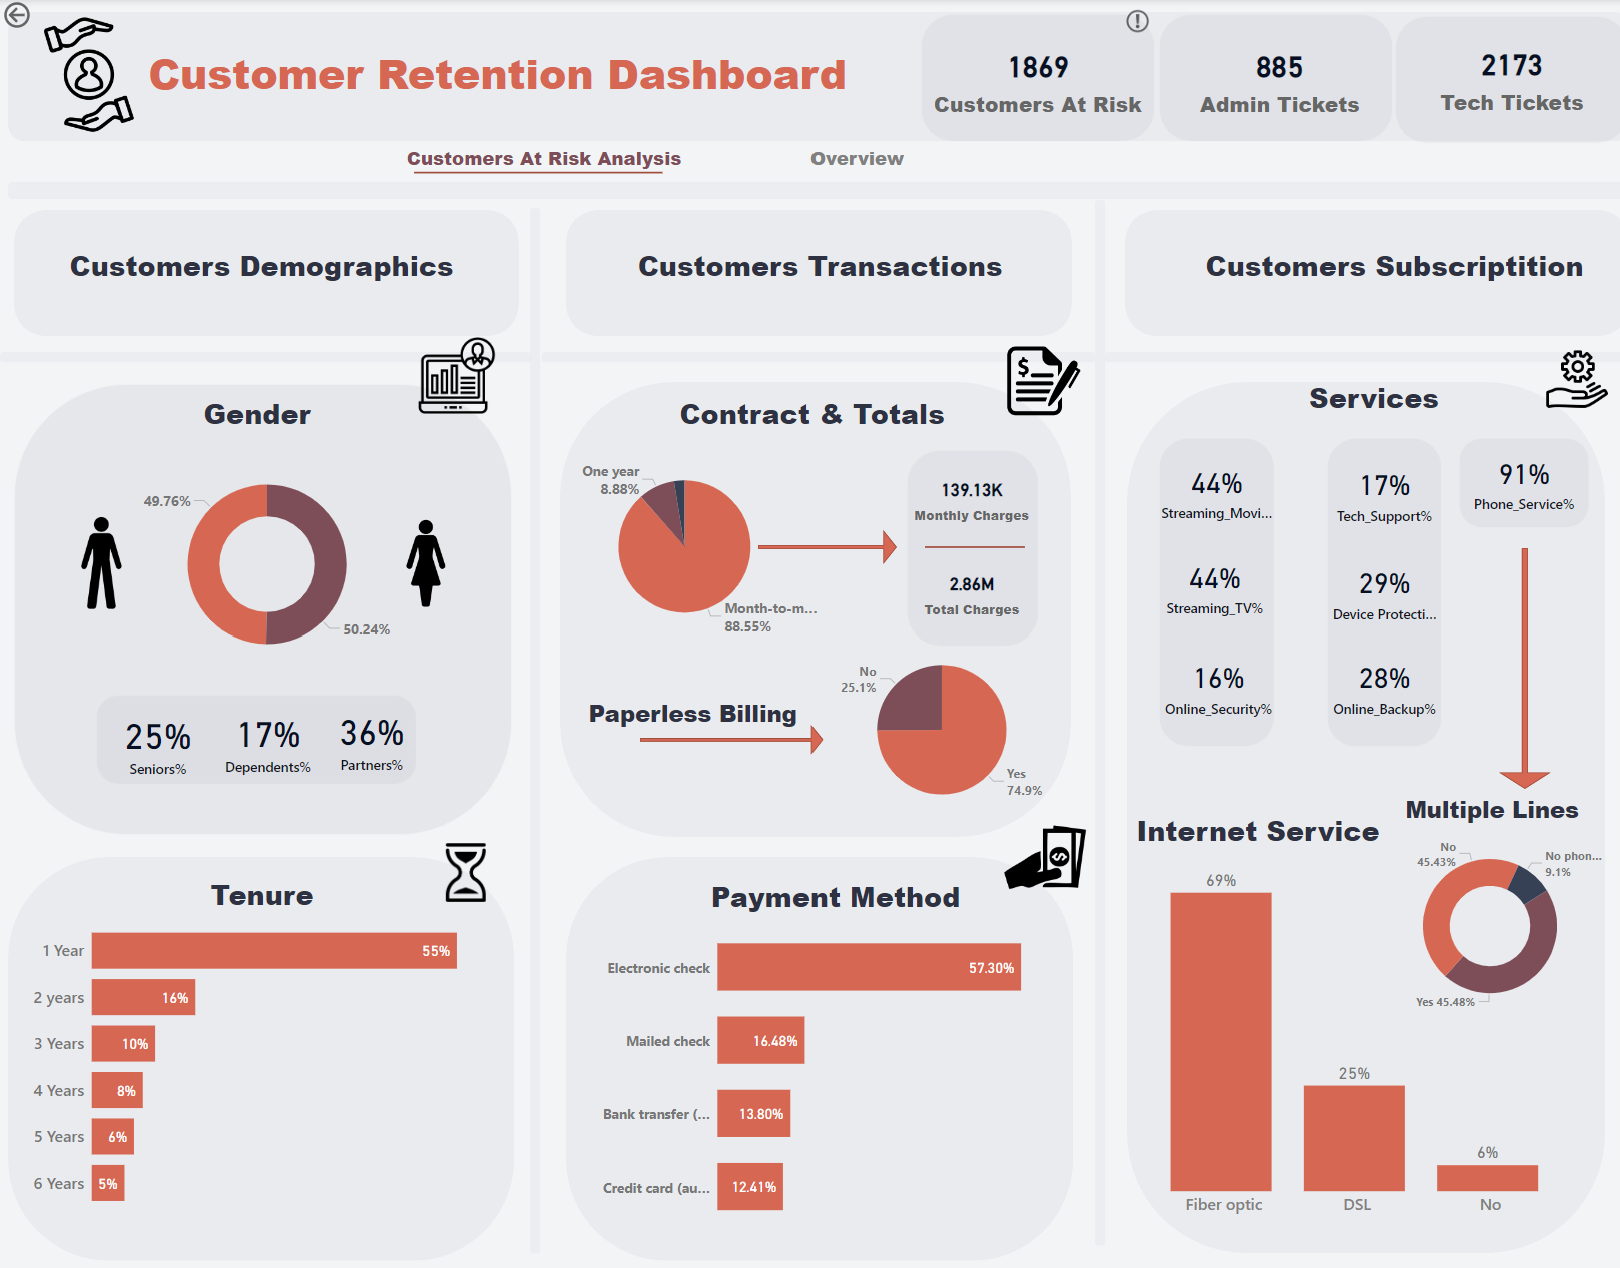

The dashboard page shown, as its layout file describes it:
{"tool":"powerbi","page":{"name":"Customers At Risk Analysis","canvas":[1920,1500],"ordinal":0},"visuals":[{"type":"shape","box":[666.4,1010.2,595.8,475.7],"z":0},{"type":"shape","box":[9.4,1010.2,595.8,475.7],"z":1000},{"type":"clusteredBarChart","fields":{"Category":["Churn_Dataset.Tenure_2"],"Y":["Divide(CountNonNull(Churn_Dataset.customerID), ScopedEval(CountNonNull(Churn_Dataset.customerID), []))"]},"box":[33,1064.4,551,379.1],"z":2000},{"type":"shape","box":[14.1,452.1,591.1,534.5],"z":5000},{"type":"shape","box":[1325.7,452.1,562.8,1024.3],"z":6000},{"type":"shape","box":[659.3,452.1,600.5,534.5],"z":7000},{"type":"shape","box":[1361.8,515.7,140.5,367.2],"z":8000},{"type":"clusteredColumnChart","fields":{"Category":["Churn_Dataset.InternetService"],"Y":["Divide(CountNonNull(Churn_Dataset.customerID), ScopedEval(CountNonNull(Churn_Dataset.customerID), []))"]},"box":[1310,1010,575,432.5],"z":9000},{"type":"shape","box":[1063.5,529.9,160,235],"z":10000},{"type":"donutChart","fields":{"Category":["Churn_Dataset.MultipleLines"],"Y":["Divide(CountNonNull(Churn_Dataset.MultipleLines), ScopedEval(CountNonNull(Churn_Dataset.MultipleLines), []))"]},"box":[1615.4,932.5,275.5,317.9],"z":11000},{"type":"donutChart","fields":{"Category":["Churn_Dataset.gender"],"Y":["Count(Churn_Dataset.customerID)"]},"box":[162.5,515.7,303.8,301.4],"z":12000},{"type":"shape","box":[487.5,192.5,292.5,25],"z":13000},{"type":"pageNavigator","box":[462.5,160,727.5,57.5],"z":14000},{"type":"pieChart","fields":{"Category":["Churn_Dataset.PaperlessBilling"],"Y":["CountNonNull(Churn_Dataset.PaperlessBilling)"]},"box":[974.9,744.1,266.1,233.1],"z":15000},{"type":"shape","box":[10,17.5,1910,152.5],"z":16000},{"type":"shape","box":[1080,17.5,280,155],"z":17000},{"type":"card","fields":{"Values":["CountNonNull(Churn_Dataset.Churn)"]},"box":[1080,20,280,152.5],"z":18000},{"type":"shape","box":[1360,17.5,280,155],"z":19000},{"type":"shape","box":[1640,20,280,155],"z":20000},{"type":"shape","box":[111.6,816.2,382.5,110],"z":21000},{"type":"shape","box":[1714.3,515.7,157.8,110.7],"z":22000},{"type":"shape","box":[1560,515,140,367.5],"z":23000},{"type":"shape","box":[10,217.5,1910,20],"z":24000},{"type":"shape","box":[0,417.5,625,12.5],"z":25000},{"type":"card","fields":{"Values":["Churn_Dataset.Dependents%"]},"box":[260,818.3,112.5,107.5],"z":26000},{"type":"pieChart","fields":{"Category":["Churn_Dataset.Contract"],"Y":["Divide(CountNonNull(Churn_Dataset.Contract), ScopedEval(CountNonNull(Churn_Dataset.Contract), []))"]},"box":[636,537.4,340,217.5],"z":27000},{"type":"card","fields":{"Values":["Churn_Dataset.Tech_Support%"]},"box":[1560,527.5,140,110],"z":28000},{"type":"shape","box":[1763.7,647.6,61.2,282.6],"z":29000},{"type":"shape","box":[15.7,248.6,594.3,148.6],"z":30000},{"type":"shape","box":[667.1,248.6,594.3,148.6],"z":31000},{"type":"shape","box":[1324.3,248.6,594.3,148.6],"z":32000},{"type":"textbox","box":[32.5,287.5,550,72.5],"z":33000},{"type":"textbox","box":[690,287.5,550,72.5],"z":34000},{"type":"textbox","box":[1365,287.5,550,72.5],"z":35000},{"type":"textbox","box":[181.3,461.5,242.5,73],"z":36000},{"type":"card","fields":{"Values":["Churn_Dataset.Device Protection%"]},"box":[1560,642.5,140,110],"z":37000},{"type":"card","fields":{"Values":["Churn_Dataset.Online_Backup%"]},"box":[1560,752.5,140,110],"z":38000},{"type":"card","fields":{"Values":["Churn_Dataset.Streaming_Movies%"]},"box":[1361.8,525.6,140.5,108.4],"z":39000},{"type":"card","fields":{"Values":["Churn_Dataset.Streaming_TV%"]},"box":[1359.4,636.5,140.5,110.9],"z":40000},{"type":"card","fields":{"Values":["Churn_Dataset.Online_Security%"]},"box":[1362.5,752.5,140,110],"z":41000},{"type":"card","fields":{"Values":["Churn_Dataset.Phone_Service%"]},"box":[1723.7,513.3,138.9,110.7],"z":42000},{"type":"textbox","box":[1646,930.1,219,73],"z":43000},{"type":"textbox","box":[781,462.4,347.5,72.5],"z":44000},{"type":"textbox","box":[661,817.4,307.5,70],"z":45000},{"type":"card","fields":{"Values":["Churn_Dataset.Seniors%"]},"box":[130,820.8,112.5,107.5],"z":46000},{"type":"card","fields":{"Values":["Churn_Dataset.Partners%"]},"box":[381.6,816.2,112.5,107.5],"z":47000},{"type":"image","box":[485,392.5,105,102.5],"z":48000},{"type":"image","box":[1792.5,405,127.5,92.5],"z":49000},{"type":"textbox","box":[170,50,885,95],"z":50000},{"type":"image","box":[10,17.5,190,147.5],"z":51000},{"type":"card","fields":{"Values":["Sum(Churn_Dataset.numAdminTickets)"]},"box":[1365,20,280,152.5],"z":52000},{"type":"card","fields":{"Values":["Sum(Churn_Dataset.numTechTickets)"]},"box":[1640,17.5,280,152.5],"z":53000},{"type":"actionButton","box":[925,160,180,57.5],"z":54000},{"type":"image","box":[1310,5,57.5,45],"z":55000},{"type":"image","box":[56.7,596.5,125.7,138],"z":56000},{"type":"image","box":[442.7,595.8,117.7,138.9],"z":57000},{"type":"textbox","box":[188.4,1026.7,240.2,73],"z":58000},{"type":"actionButton","box":[0,0,100,40],"z":59000},{"type":"shape","box":[753.5,854.9,215,35],"z":60000},{"type":"card","fields":{"Values":["Sum(Churn_Dataset.MonthlyCharges)"]},"box":[1003.5,524.9,280,127.5],"z":61000},{"type":"card","fields":{"Values":["Sum(Churn_Dataset.TotalCharges)"]},"box":[1003.5,654.9,280,90],"z":62000},{"type":"shape","box":[1088.5,627.4,117.5,40],"z":63000},{"type":"textbox","box":[1438.5,443.2,355.6,73],"z":64000},{"type":"textbox","box":[1317.5,952.5,327.5,70],"z":65000},{"type":"shape","box":[625,247.5,12.5,1230],"z":66000},{"type":"shape","box":[637.5,417.5,650,12.5],"z":67000},{"type":"shape","box":[1300,417.5,620,12.5],"z":68000},{"type":"shape","box":[1287.5,237.5,12.5,1230],"z":69000},{"type":"shape","box":[893.5,627.4,162.5,40],"z":70000},{"type":"image","box":[502.8,988.3,88.7,78.9],"z":71000},{"type":"image","box":[1180.6,399.3,96.1,101.1],"z":72000},{"type":"clusteredBarChart","fields":{"Category":["Churn_Dataset.PaymentMethod"],"Y":["CountNonNull(Churn_Dataset.PaymentMethod)"]},"box":[687.6,1064.4,574.6,405],"z":73000},{"type":"textbox","box":[805.3,1029,355.6,73],"z":74000},{"type":"image","box":[1175.7,953.8,108.4,113.4],"z":75000}]}

Visuals, with their boxes in screenshot pixels (x1, y1, x2, y2), scaled from the page's 1920x1500 canvas onto the 1620x1268 screenshot:
shape: left=562, top=854, right=1065, bottom=1256
shape: left=8, top=854, right=511, bottom=1256
clusteredBarChart - Churn_Dataset.Tenure_2 x Divide(CountNonNull(Churn_Dataset.customerID), ScopedEval(CountNonNull(Churn_Dataset.customerID), [])): left=28, top=900, right=493, bottom=1220
shape: left=12, top=382, right=511, bottom=834
shape: left=1119, top=382, right=1593, bottom=1248
shape: left=556, top=382, right=1063, bottom=834
shape: left=1149, top=436, right=1268, bottom=746
clusteredColumnChart - Churn_Dataset.InternetService x Divide(CountNonNull(Churn_Dataset.customerID), ScopedEval(CountNonNull(Churn_Dataset.customerID), [])): left=1105, top=854, right=1590, bottom=1219
shape: left=897, top=448, right=1032, bottom=647
donutChart - Churn_Dataset.MultipleLines x Divide(CountNonNull(Churn_Dataset.MultipleLines), ScopedEval(CountNonNull(Churn_Dataset.MultipleLines), [])): left=1363, top=788, right=1595, bottom=1057
donutChart - Churn_Dataset.gender x Count(Churn_Dataset.customerID): left=137, top=436, right=393, bottom=691
shape: left=411, top=163, right=658, bottom=184
pageNavigator: left=390, top=135, right=1004, bottom=184
pieChart - Churn_Dataset.PaperlessBilling x CountNonNull(Churn_Dataset.PaperlessBilling): left=823, top=629, right=1047, bottom=826
shape: left=8, top=15, right=1619, bottom=144
shape: left=911, top=15, right=1148, bottom=146
card - CountNonNull(Churn_Dataset.Churn): left=911, top=17, right=1148, bottom=146
shape: left=1148, top=15, right=1384, bottom=146
shape: left=1384, top=17, right=1619, bottom=148
shape: left=94, top=690, right=417, bottom=783
shape: left=1446, top=436, right=1580, bottom=530
shape: left=1316, top=435, right=1434, bottom=746
shape: left=8, top=184, right=1619, bottom=201
shape: left=0, top=353, right=527, bottom=363
card - Churn_Dataset.Dependents%: left=219, top=692, right=314, bottom=783
pieChart - Churn_Dataset.Contract x Divide(CountNonNull(Churn_Dataset.Contract), ScopedEval(CountNonNull(Churn_Dataset.Contract), [])): left=537, top=454, right=824, bottom=638
card - Churn_Dataset.Tech_Support%: left=1316, top=446, right=1434, bottom=539
shape: left=1488, top=547, right=1540, bottom=786
shape: left=13, top=210, right=515, bottom=336
shape: left=563, top=210, right=1064, bottom=336
shape: left=1117, top=210, right=1619, bottom=336
textbox: left=27, top=243, right=491, bottom=304
textbox: left=582, top=243, right=1046, bottom=304
textbox: left=1152, top=243, right=1616, bottom=304
textbox: left=153, top=390, right=358, bottom=452
card - Churn_Dataset.Device Protection%: left=1316, top=543, right=1434, bottom=636
card - Churn_Dataset.Online_Backup%: left=1316, top=636, right=1434, bottom=729
card - Churn_Dataset.Streaming_Movies%: left=1149, top=444, right=1268, bottom=536
card - Churn_Dataset.Streaming_TV%: left=1147, top=538, right=1266, bottom=632
card - Churn_Dataset.Online_Security%: left=1150, top=636, right=1268, bottom=729
card - Churn_Dataset.Phone_Service%: left=1454, top=434, right=1572, bottom=527
textbox: left=1389, top=786, right=1574, bottom=848
textbox: left=659, top=391, right=952, bottom=452
textbox: left=558, top=691, right=817, bottom=750
card - Churn_Dataset.Seniors%: left=110, top=694, right=205, bottom=785
card - Churn_Dataset.Partners%: left=322, top=690, right=417, bottom=781
image: left=409, top=332, right=498, bottom=418
image: left=1512, top=342, right=1619, bottom=421
textbox: left=143, top=42, right=890, bottom=123
image: left=8, top=15, right=169, bottom=139
card - Sum(Churn_Dataset.numAdminTickets): left=1152, top=17, right=1388, bottom=146
card - Sum(Churn_Dataset.numTechTickets): left=1384, top=15, right=1619, bottom=144
actionButton: left=780, top=135, right=932, bottom=184
image: left=1105, top=4, right=1154, bottom=42
image: left=48, top=504, right=154, bottom=621
image: left=374, top=504, right=473, bottom=621
textbox: left=159, top=868, right=362, bottom=930
actionButton: left=0, top=0, right=84, bottom=34
shape: left=636, top=723, right=817, bottom=752
card - Sum(Churn_Dataset.MonthlyCharges): left=847, top=444, right=1083, bottom=551
card - Sum(Churn_Dataset.TotalCharges): left=847, top=554, right=1083, bottom=630
shape: left=918, top=530, right=1018, bottom=564
textbox: left=1214, top=375, right=1514, bottom=436
textbox: left=1112, top=805, right=1388, bottom=864
shape: left=527, top=209, right=538, bottom=1249
shape: left=538, top=353, right=1086, bottom=363
shape: left=1097, top=353, right=1619, bottom=363
shape: left=1086, top=201, right=1097, bottom=1241
shape: left=754, top=530, right=891, bottom=564
image: left=424, top=835, right=499, bottom=902
image: left=996, top=338, right=1077, bottom=423
clusteredBarChart - Churn_Dataset.PaymentMethod x CountNonNull(Churn_Dataset.PaymentMethod): left=580, top=900, right=1065, bottom=1242
textbox: left=679, top=870, right=980, bottom=932
image: left=992, top=806, right=1083, bottom=902
